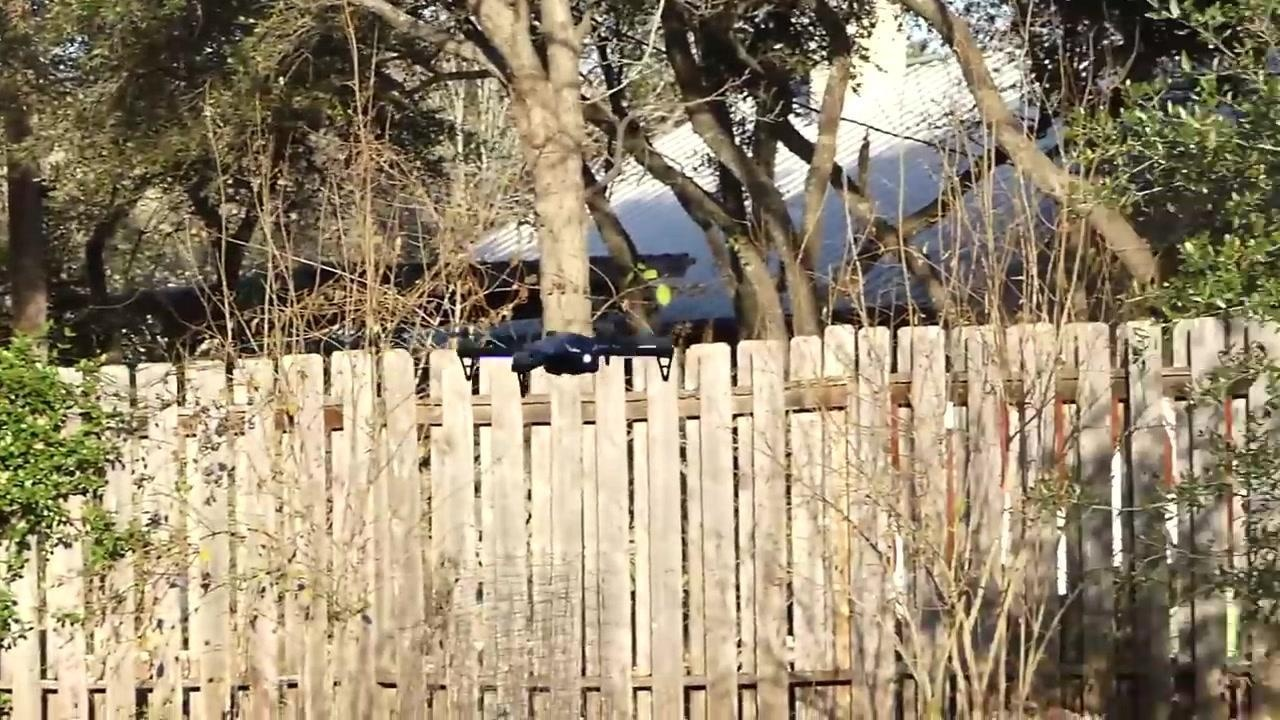UAV: (457, 331, 676, 400)
